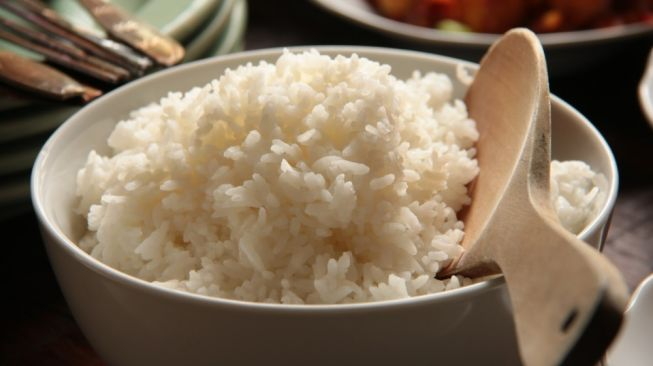Nasi Putih: (1, 70, 501, 290)
